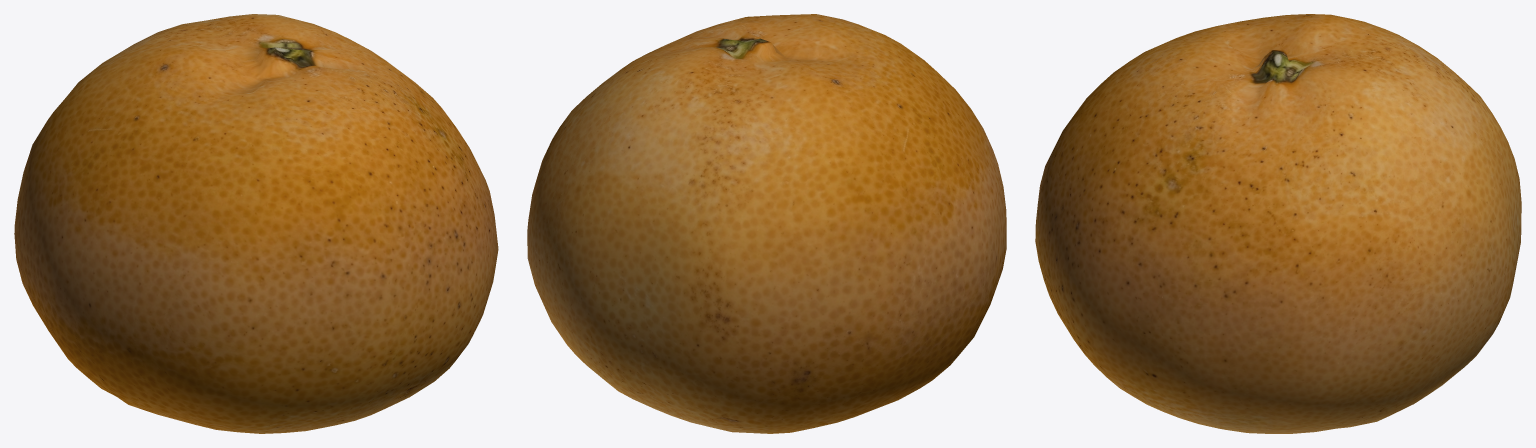
Rendered from kiri_clementine.gltf.
3 renders of one model, left to right at view 1: azimuth 30°, elevation 25°; view 2: azimuth 150°, elevation 25°; view 3: azimuth 270°, elevation 25°, orthographic.
Parts seen in each view (by area): view 1: A17_Satsuma; view 2: A17_Satsuma; view 3: A17_Satsuma.
Boxes of the visible parts, bbox=[...] form: A17_Satsuma: bbox=[14, 14, 498, 433]; A17_Satsuma: bbox=[527, 14, 1006, 433]; A17_Satsuma: bbox=[1035, 14, 1521, 433].
Size of the model in its own units: 0.0725 by 0.0575 by 0.0734.
1 material, 1 textured.
